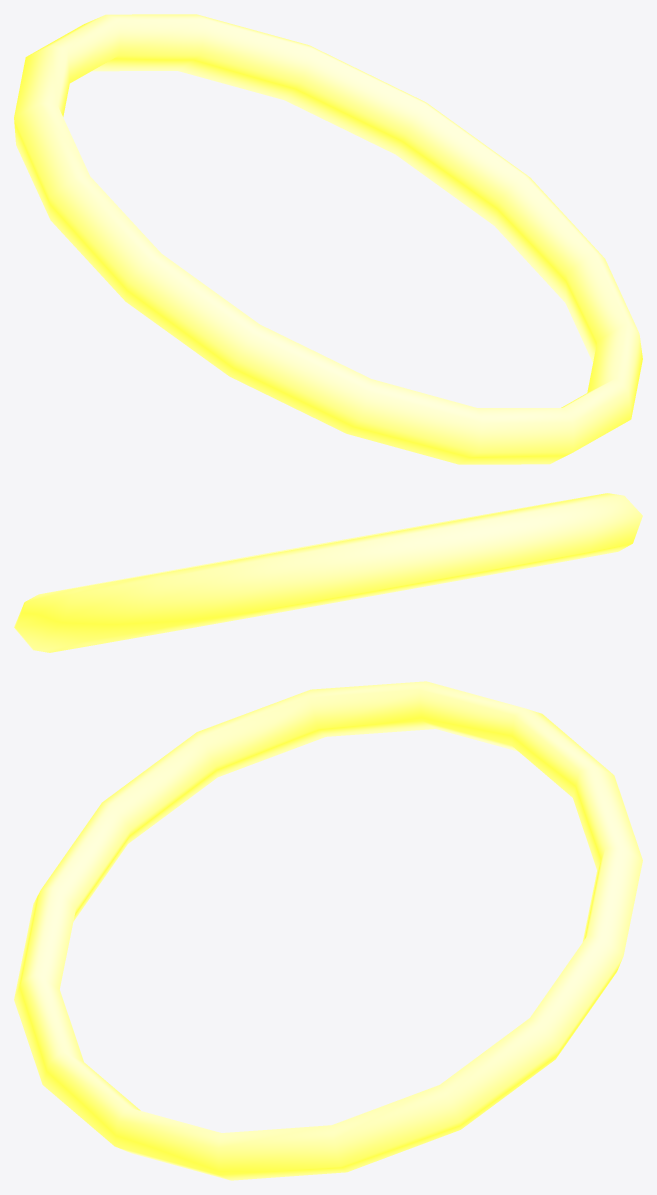
Rendered from Halo.glb.
The picture shows the model from 3 angles, top to bottom: view 1: azimuth 30°, elevation 25°; view 2: azimuth 150°, elevation 25°; view 3: azimuth 270°, elevation 25°; orthographic projection. The views are drawn at different scales.
Parts seen in each view (by area): view 1: Halo; view 2: Halo; view 3: Halo.
Boxes of the visible parts, x1,y1,x2,y2 form: Halo: [14, 14, 642, 464]; Halo: [14, 493, 642, 652]; Halo: [14, 681, 642, 1180].
Bounding box in the file's own units: 1.34 × 0.7075 × 1.39.
